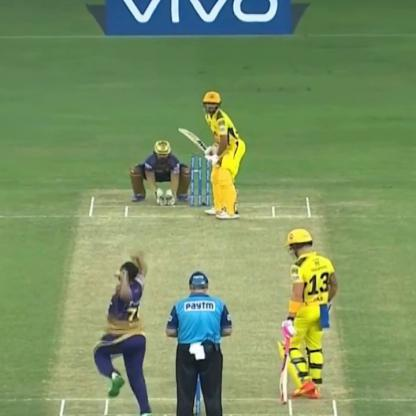ball: (112, 265, 125, 282)
bat: (163, 115, 219, 165)
pitch: (43, 192, 339, 416)
